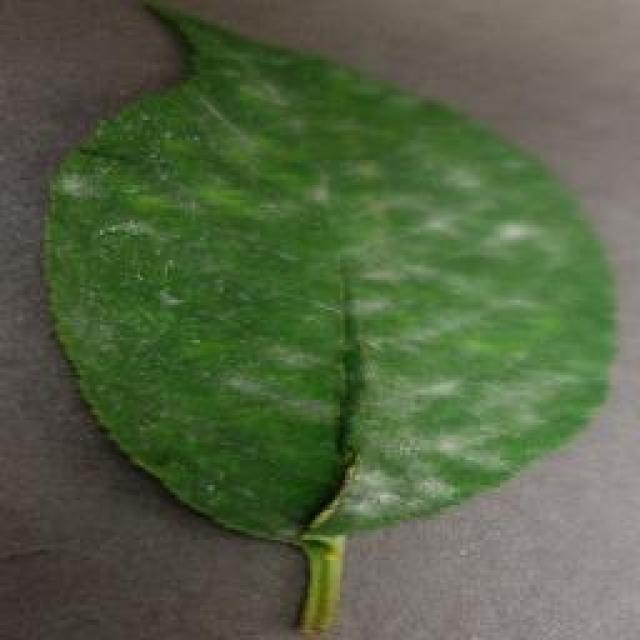Cherry___Powdery_mildew: (64, 73, 586, 515)
